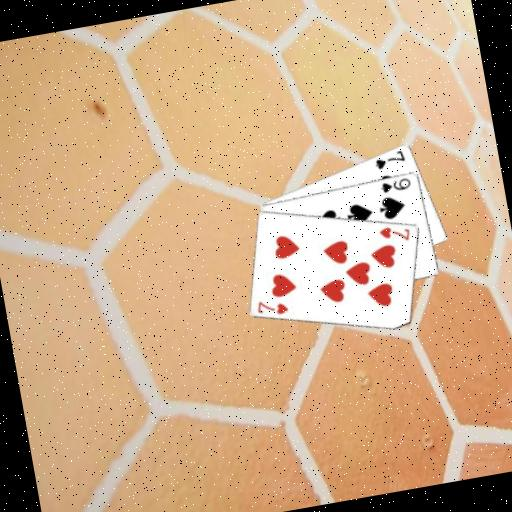7H: (252, 293, 291, 320), (375, 220, 413, 246)
7S: (370, 146, 408, 172)
9S: (376, 174, 413, 195)
